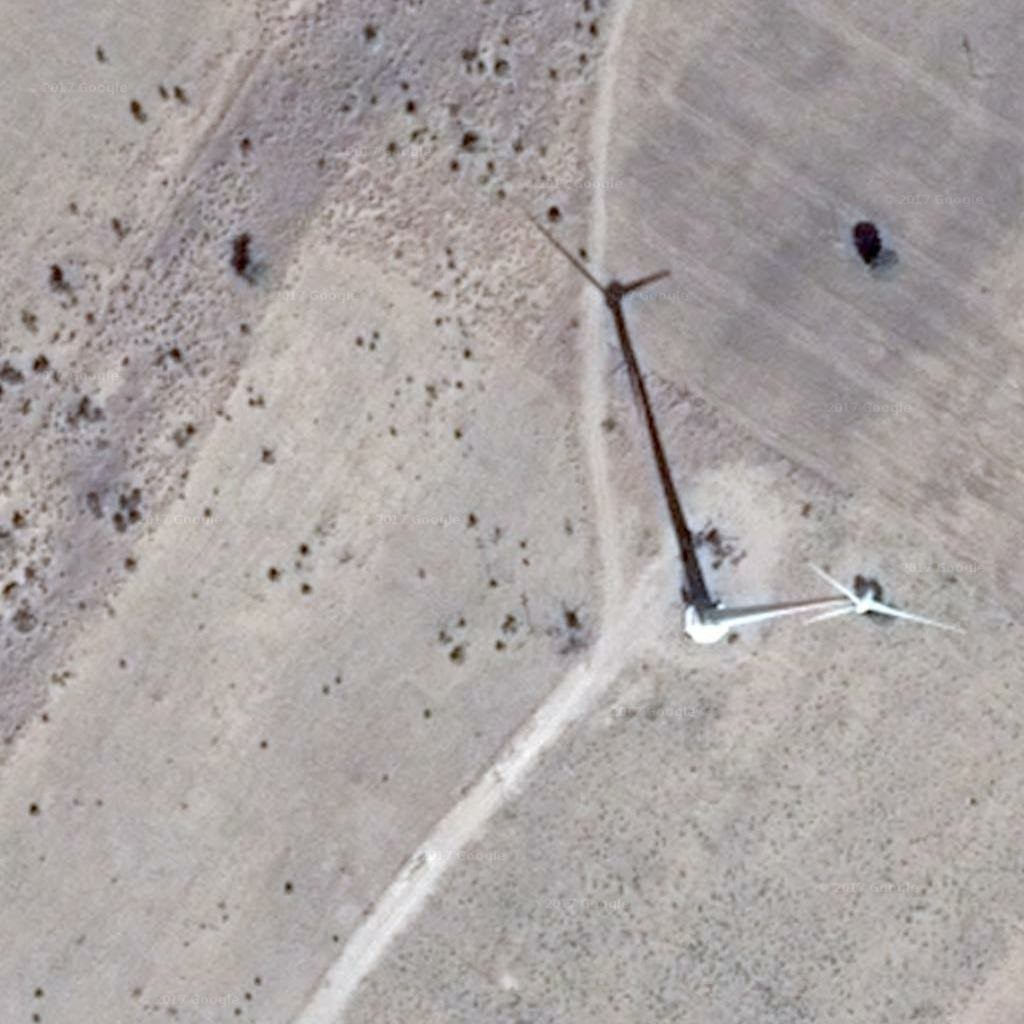Windmill: (520, 202, 736, 609)
